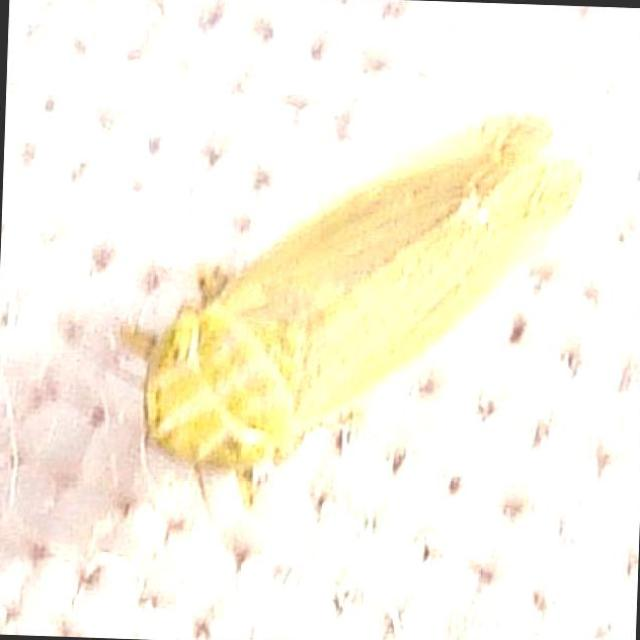green leaf hopper: (123, 116, 579, 502)
